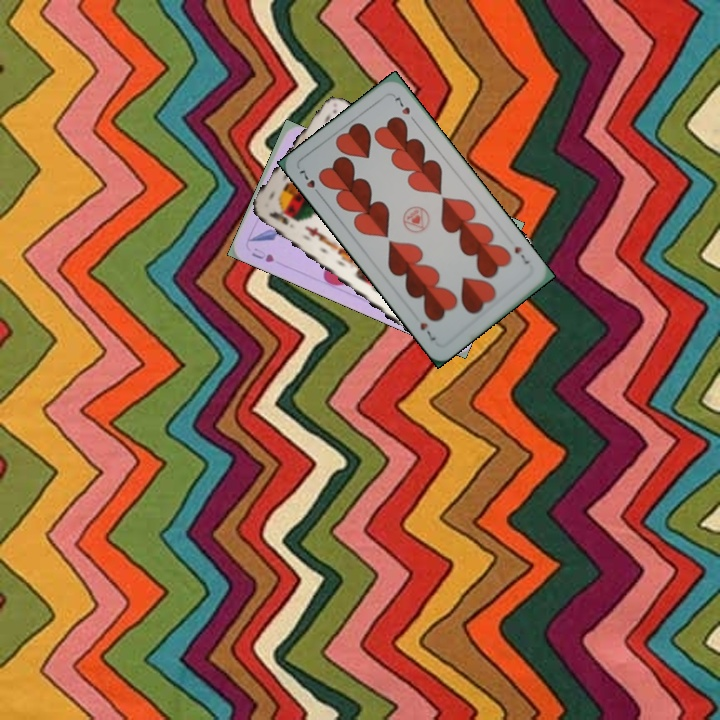H7: (295, 166, 324, 200), (510, 242, 532, 267)
HU: (248, 244, 276, 265)
SK: (264, 207, 291, 228)
